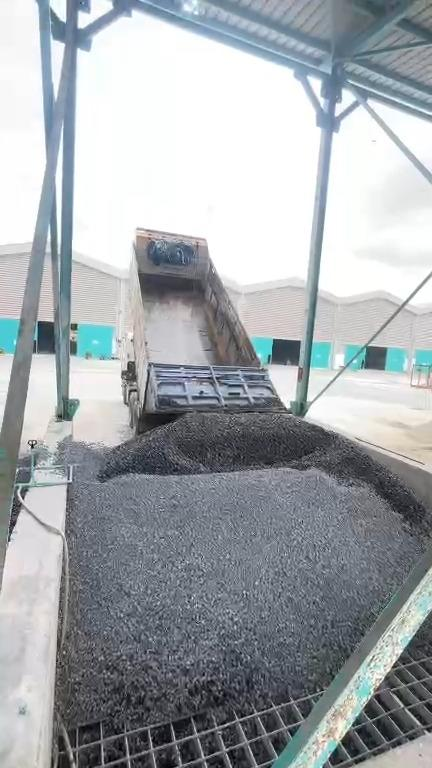gravel: (53, 434, 429, 725), (98, 413, 425, 531), (411, 612, 431, 655), (8, 494, 19, 540), (16, 452, 30, 484), (36, 443, 46, 461), (20, 486, 29, 500)
sand: (382, 420, 431, 463)
